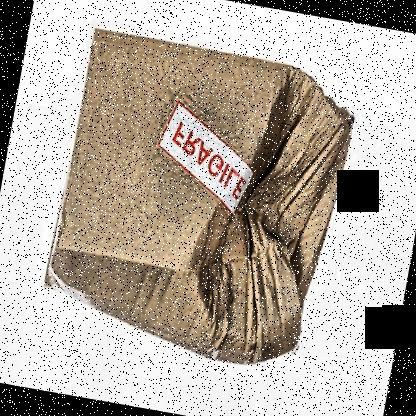defect parcel: (38, 29, 396, 394)
